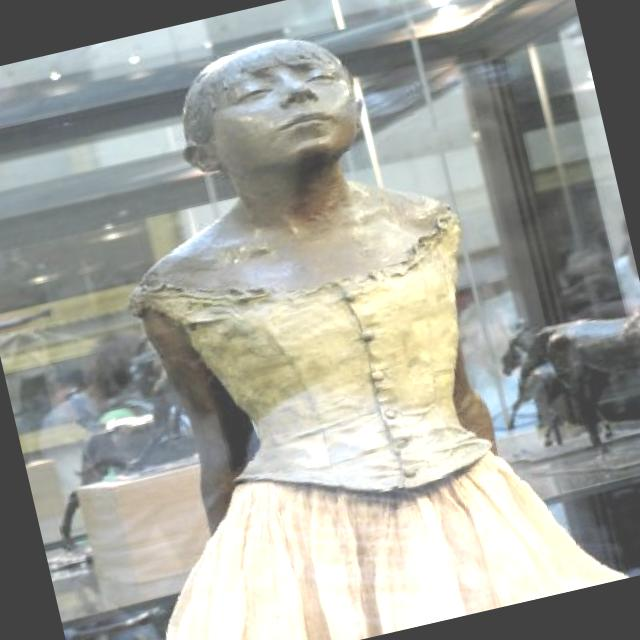Person: (26, 7, 618, 640)
